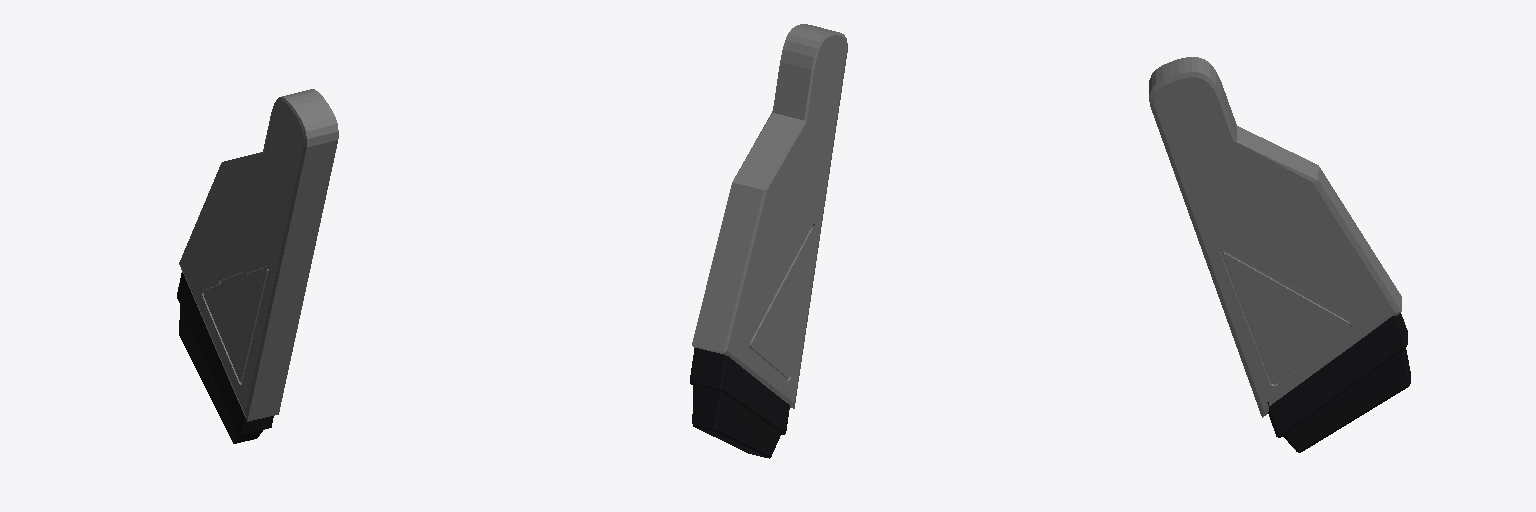
File: rightLegGunStock.obj
The picture shows the model from 3 angles: view 1: azimuth 30°, elevation 25°; view 2: azimuth 150°, elevation 25°; view 3: azimuth 270°, elevation 25°; orthographic projection.
Parts seen in each view (by area): view 1: freedom:FormaS16 rightLegGunStock, rightLegGunStock freedom:ChafCaja1238, rightLegGunStock freedom:ChafCaja1237; view 2: freedom:FormaS16 rightLegGunStock, rightLegGunStock freedom:ChafCaja1238, rightLegGunStock freedom:ChafCaja1237; view 3: freedom:FormaS16 rightLegGunStock, rightLegGunStock freedom:ChafCaja1238, rightLegGunStock freedom:ChafCaja1237.
Boxes of the visible parts, box(x1,y1,x2,y2) form: freedom:FormaS16 rightLegGunStock: box(179, 89, 338, 421); rightLegGunStock freedom:ChafCaja1238: box(177, 272, 273, 434); rightLegGunStock freedom:ChafCaja1237: box(179, 306, 262, 443); freedom:FormaS16 rightLegGunStock: box(692, 24, 847, 408); rightLegGunStock freedom:ChafCaja1238: box(690, 348, 789, 434); rightLegGunStock freedom:ChafCaja1237: box(692, 385, 780, 458); freedom:FormaS16 rightLegGunStock: box(1149, 57, 1401, 417); rightLegGunStock freedom:ChafCaja1238: box(1267, 313, 1407, 437); rightLegGunStock freedom:ChafCaja1237: box(1283, 349, 1410, 452).
Bounding box in the file's own units: 4.36 × 42.86 × 26.38.